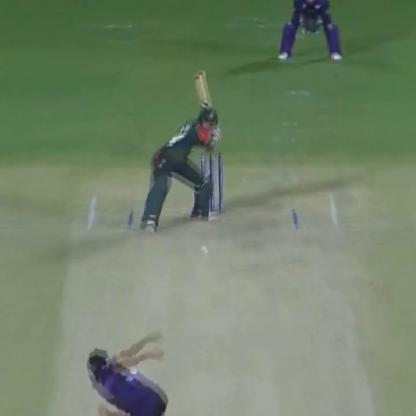ball: (198, 242, 209, 250), (202, 249, 210, 256)
bat: (183, 66, 232, 127)
pitch: (47, 180, 363, 416)
